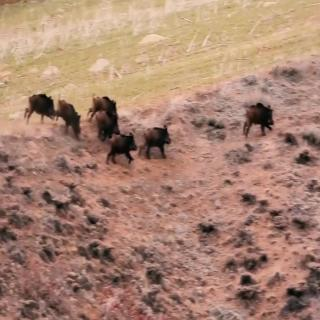Pig: (233, 94, 280, 148), (60, 90, 86, 137), (24, 89, 57, 126), (151, 110, 174, 160), (112, 124, 137, 166), (94, 110, 122, 132), (101, 90, 123, 117)
